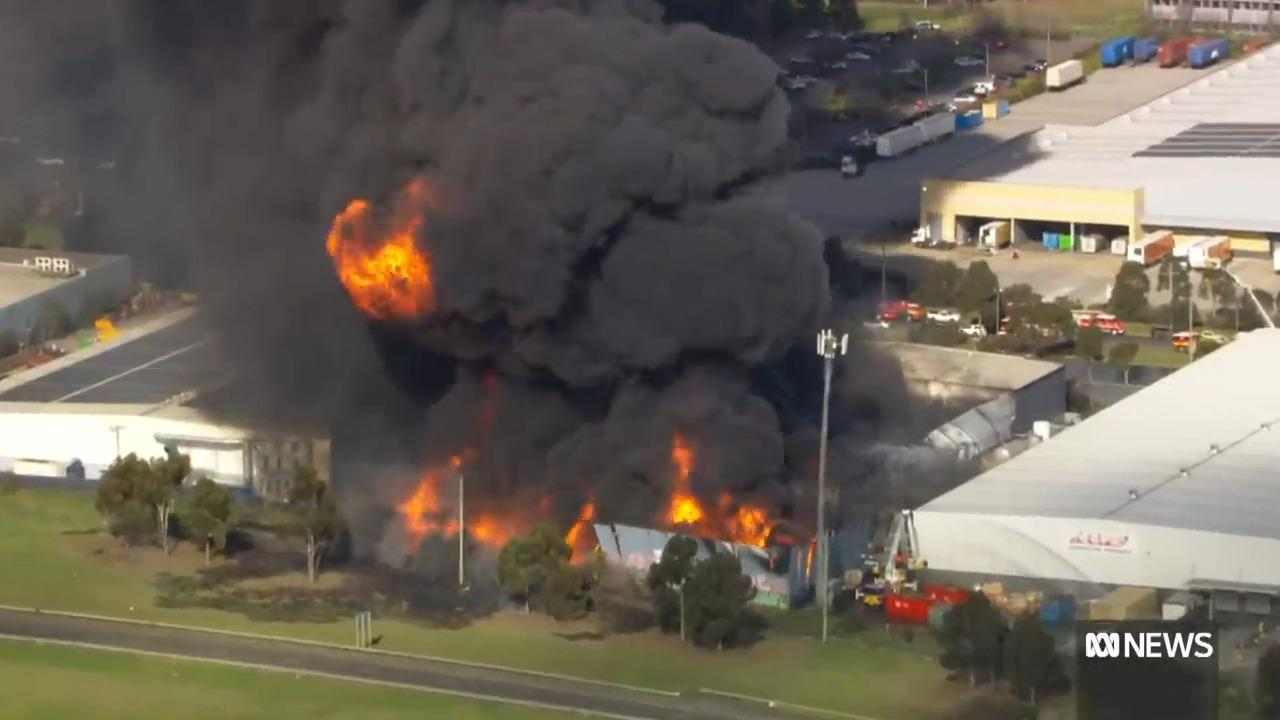fire: (321, 180, 453, 319), (403, 467, 537, 555), (723, 493, 785, 549), (667, 443, 704, 526)
